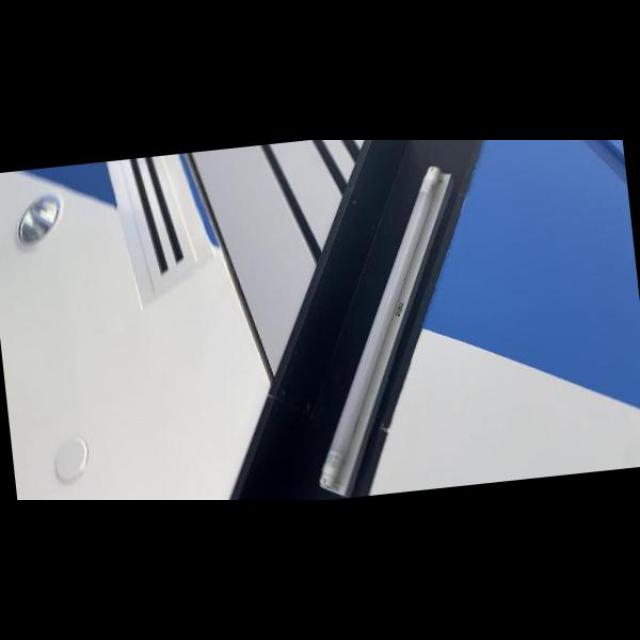Straight-Tube-Fluorescent-Lamp: (274, 156, 498, 500)
